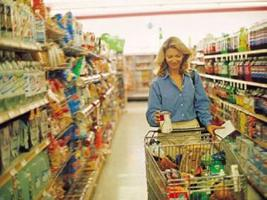person: (146, 36, 227, 158)
